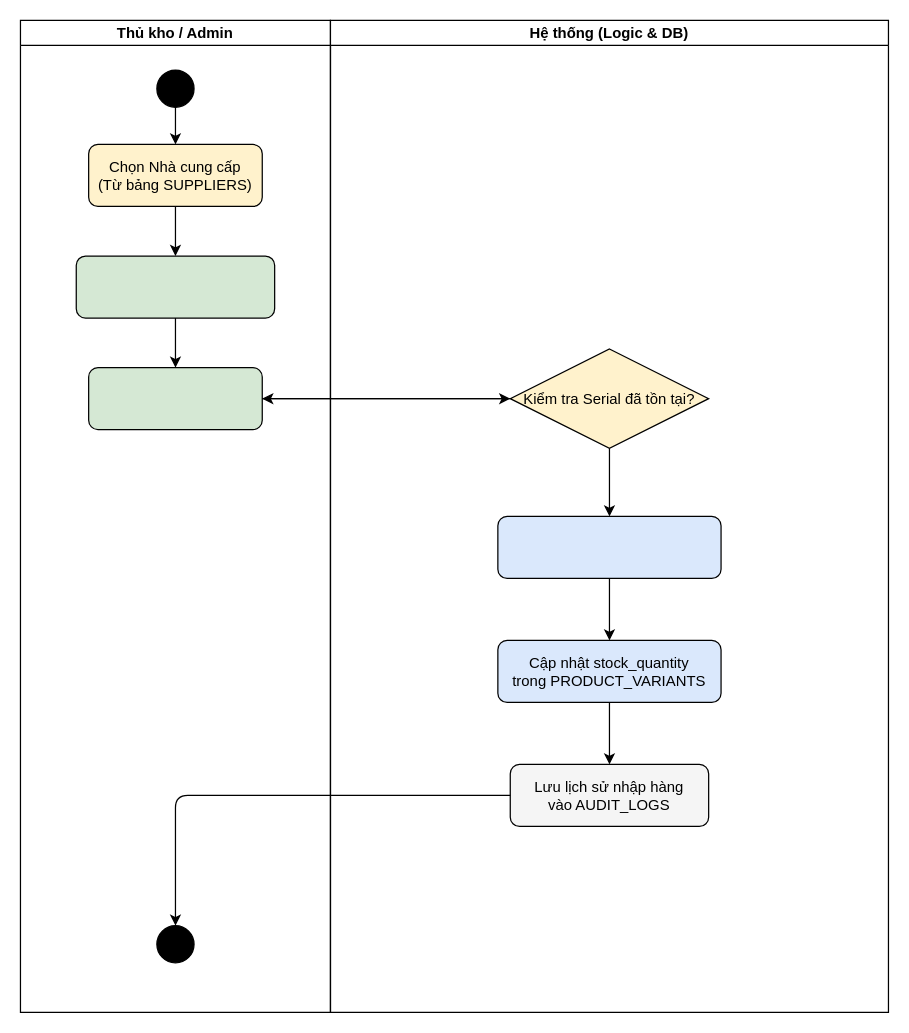
This 909x1033 diagram has some shape labels left out. The shapes that lost their labels are listed below. From the top down, each one's centre as x and y in pixels, then its label:
At point 175,286: "Chọn Sản phẩm & Biến thể (PRODUCT_VARIANTS)".
At point 174,398: "Quét mã Serial/IMEI cho từng thiết bị".
At point 609,546: "Tạo danh sách bản ghi mới trong INVENTORY_ITEMS".
